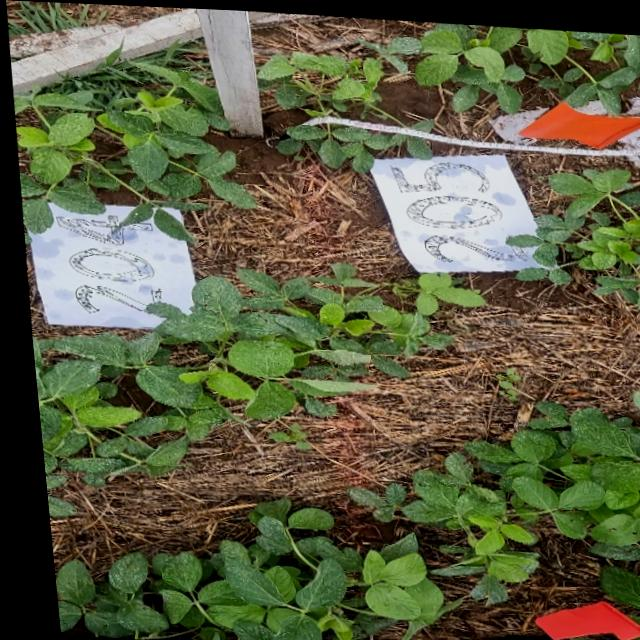caruru_weed: (260, 420, 301, 446), (488, 362, 513, 397)
grassy_weed: (42, 38, 211, 108), (6, 0, 176, 34)
soy_plant: (26, 260, 476, 487), (44, 495, 445, 640), (365, 387, 640, 596), (11, 62, 248, 238), (257, 17, 640, 116), (503, 163, 640, 303), (273, 120, 428, 168), (411, 115, 431, 126)
